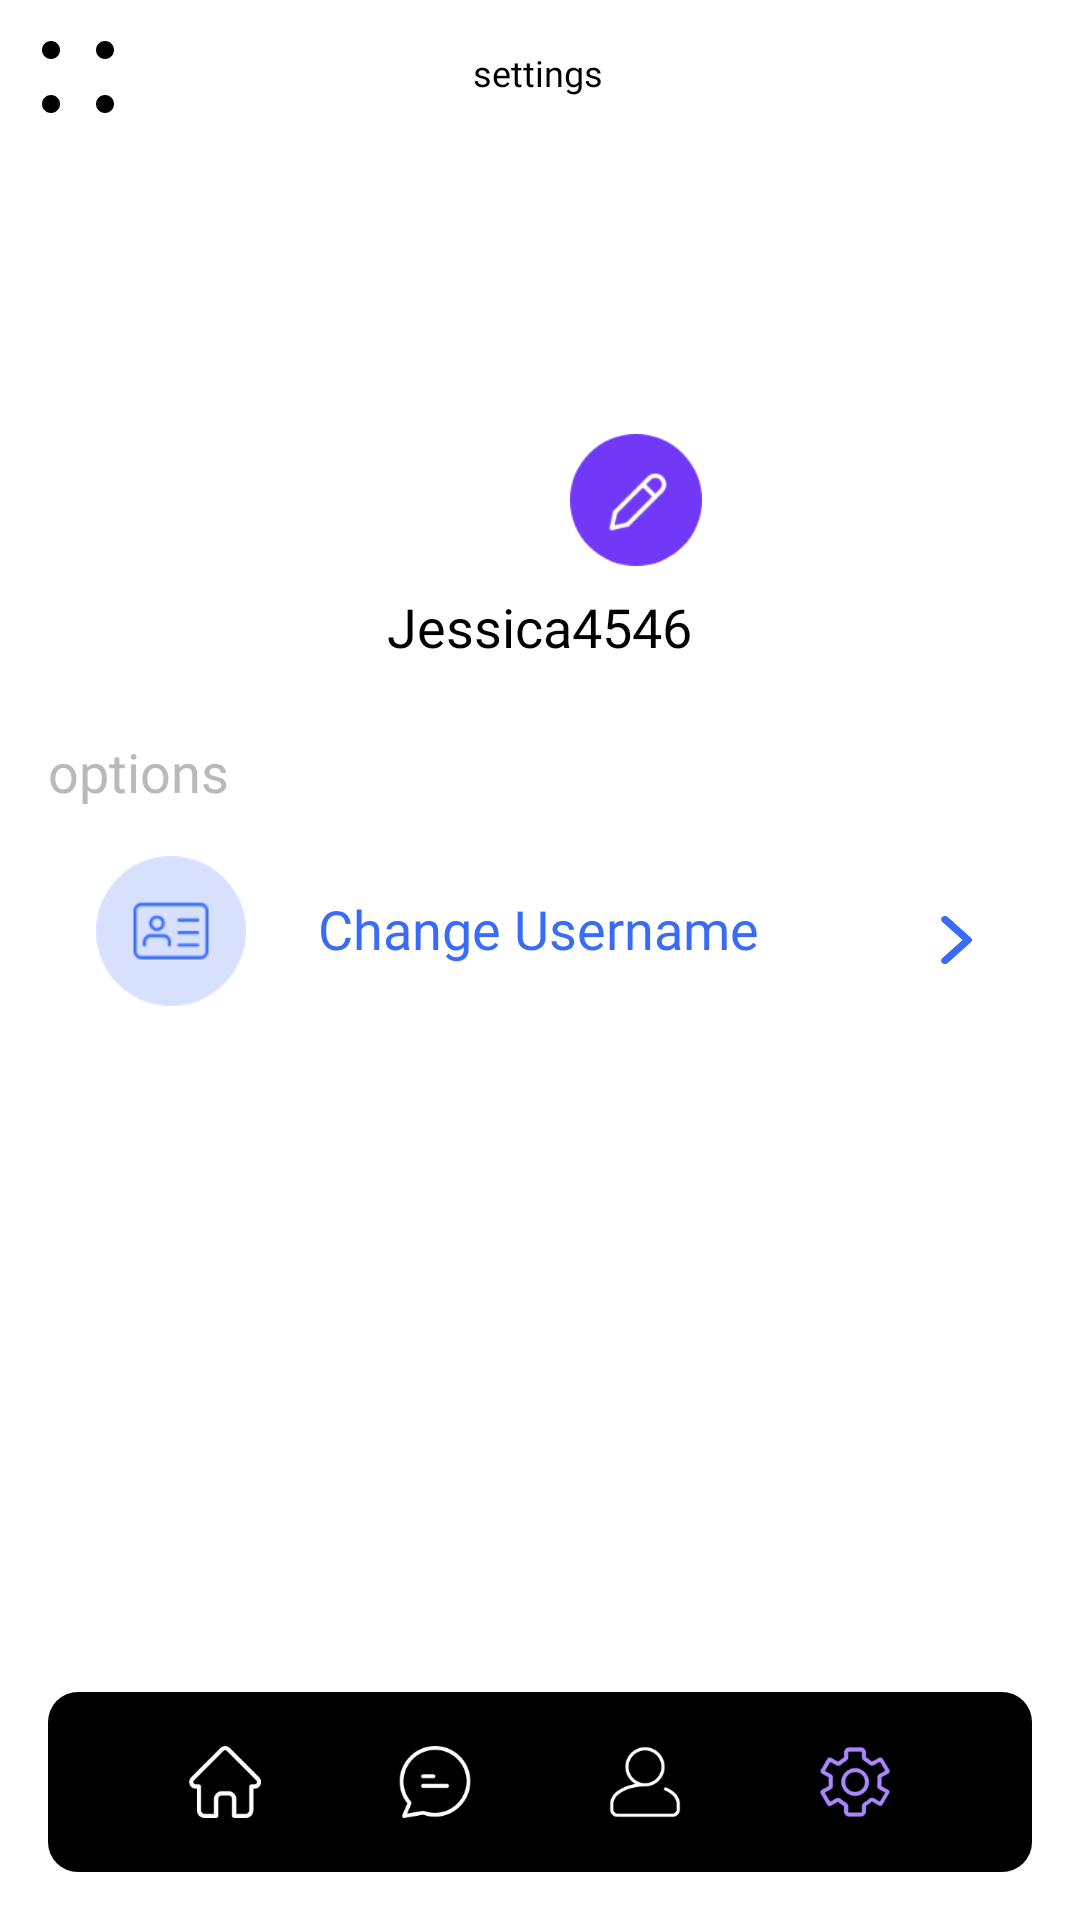

Icons on this 1080w x 1920h Android screen, each with the point to tap as [x,y]:
bluearrow: [956,940]
changedp: [636,500]
changeuname: [171,931]
chatw: [435,1782]
homew: [225,1782]
menuicon: [78,77]
profilew: [645,1782]
settingsp: [855,1782]
